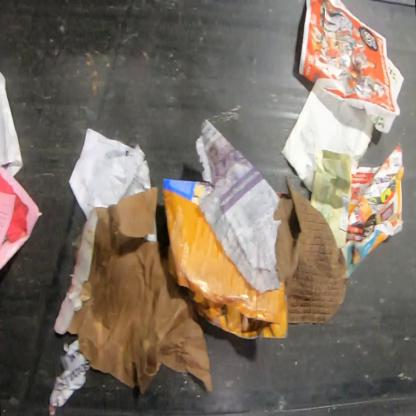cardboard: (162, 177, 288, 340), (274, 176, 350, 324)
